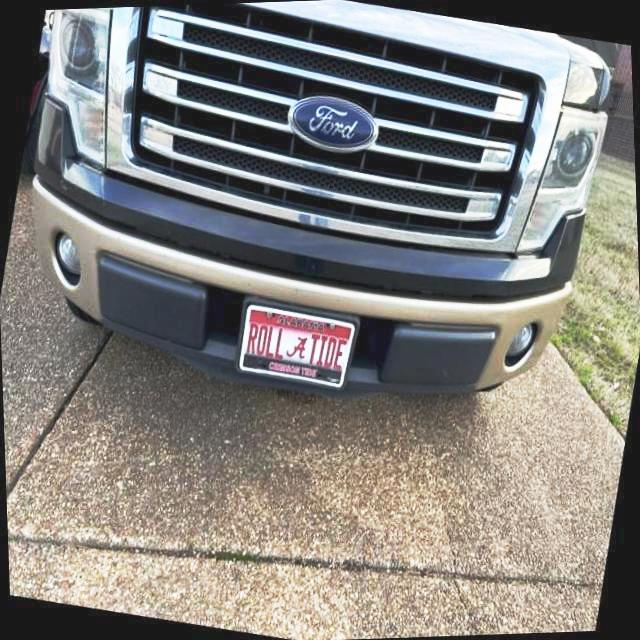license_plate: (240, 307, 356, 389)
